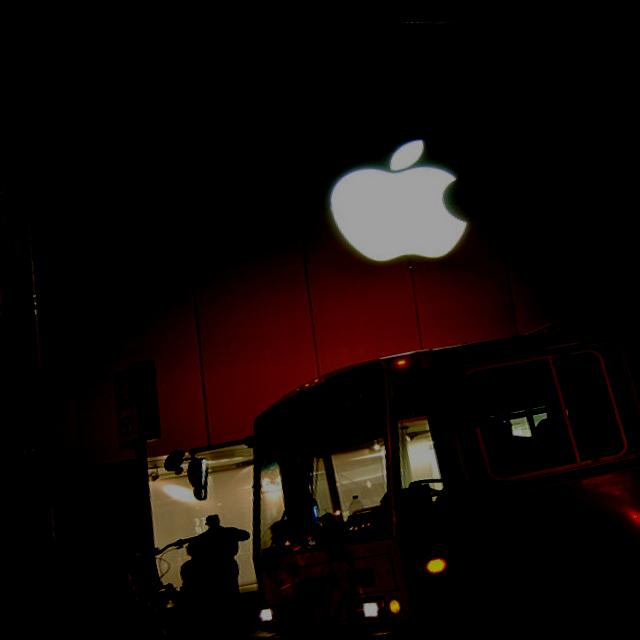Vehicle: (175, 296, 640, 640)
